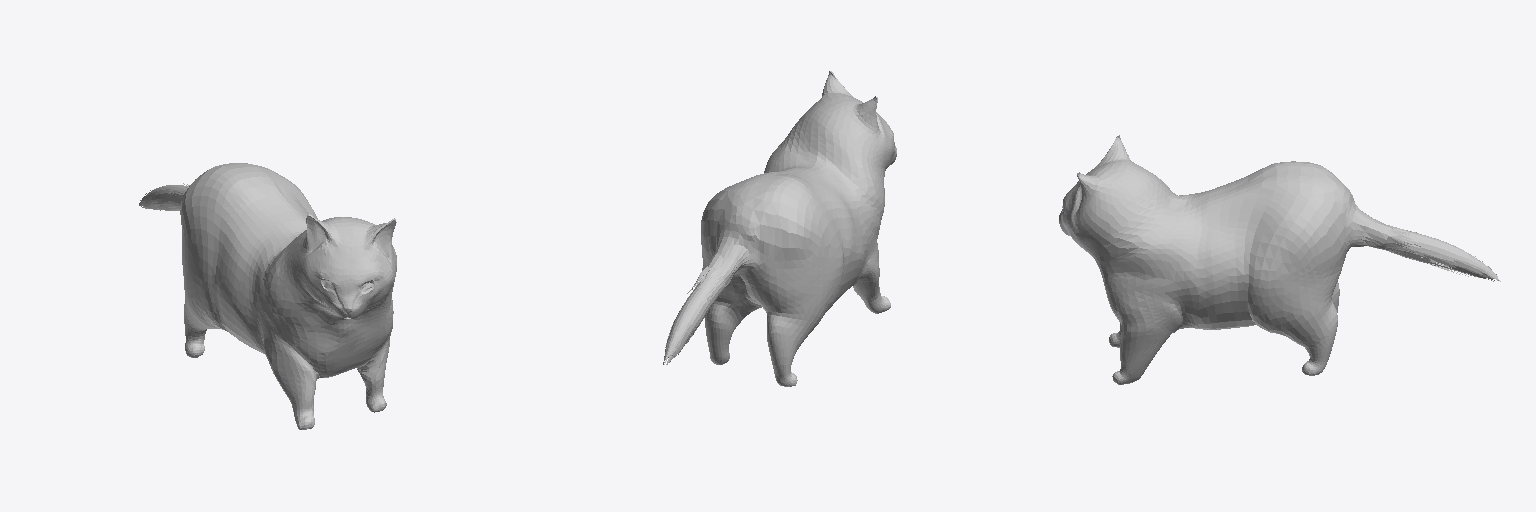
The model's file is oiaCat.obj.
3 views of the same model, side by side, from view 1: azimuth 30°, elevation 25°; view 2: azimuth 150°, elevation 25°; view 3: azimuth 270°, elevation 25° (orthographic).
Parts seen in each view (by area): view 1: Muchkin1.002; view 2: Muchkin1.002; view 3: Muchkin1.002.
Boxes of the visible parts, x1,y1,x2,y2 form: Muchkin1.002: [139, 163, 396, 429]; Muchkin1.002: [663, 71, 896, 386]; Muchkin1.002: [1059, 135, 1500, 384].
Bounding box in the file's own units: 0.2392 × 0.3866 × 0.7242.